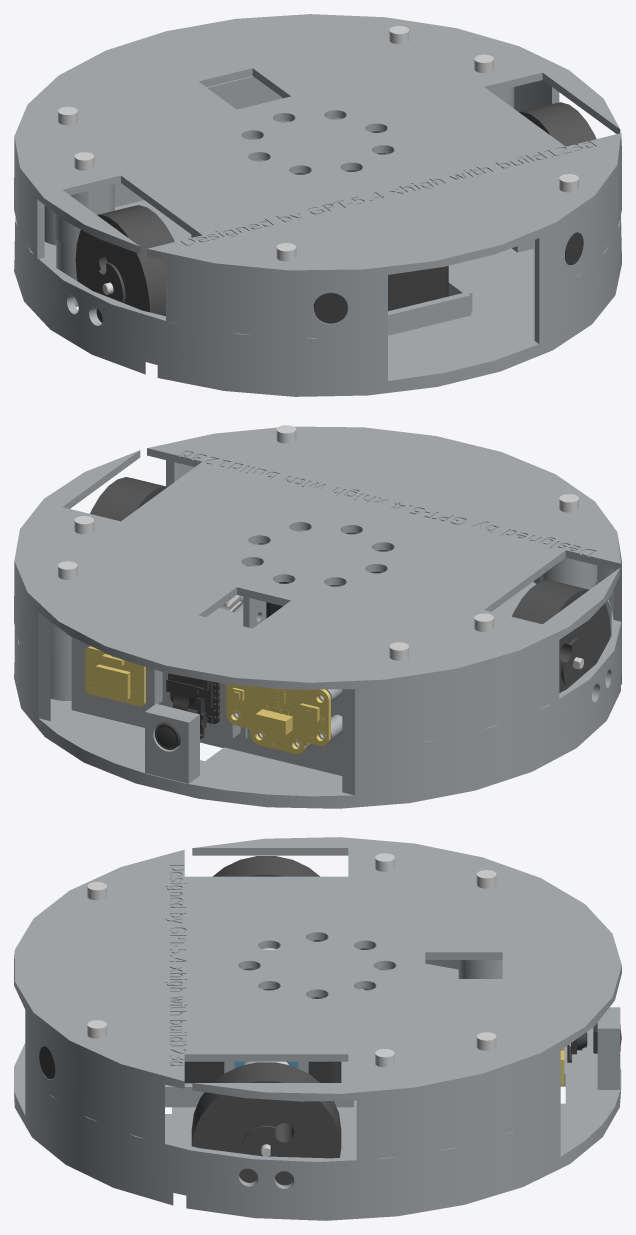
The model's file is flat-disk-robot.glb.
3 views of the same model, one above another, from view 1: azimuth 30°, elevation 25°; view 2: azimuth 150°, elevation 25°; view 3: azimuth 270°, elevation 25° (orthographic).
Parts seen in each view (by area): view 1: =>[0:1:1:6], =>[0:1:1:4], =>[0:1:1:357], =>[0:1:1:9], =>[0:1:1:400], =>[0:1:1:390]; view 2: =>[0:1:1:6], =>[0:1:1:4], =>[0:1:1:357], =>[0:1:1:139], =>[0:1:1:400], =>[0:1:1:328], =>[0:1:1:136], =>[0:1:1:330], =>[0:1:1:225]; view 3: =>[0:1:1:6], =>[0:1:1:4], =>[0:1:1:400], =>[0:1:1:357], =>[0:1:1:9].
Boxes of the visible parts, bbox=[...] form: =>[0:1:1:6]: bbox=[14, 14, 621, 338]; =>[0:1:1:4]: bbox=[14, 76, 621, 396]; =>[0:1:1:357]: bbox=[75, 205, 174, 322]; =>[0:1:1:9]: bbox=[388, 265, 448, 310]; =>[0:1:1:400]: bbox=[519, 102, 596, 146]; =>[0:1:1:390]: bbox=[313, 292, 347, 323]; =>[0:1:1:6]: bbox=[14, 426, 621, 749]; =>[0:1:1:4]: bbox=[14, 529, 621, 808]; =>[0:1:1:357]: bbox=[512, 580, 610, 692]; =>[0:1:1:139]: bbox=[226, 684, 330, 754]; =>[0:1:1:400]: bbox=[90, 477, 167, 521]; =>[0:1:1:328]: bbox=[85, 646, 145, 706]; =>[0:1:1:136]: bbox=[155, 679, 197, 749]; =>[0:1:1:330]: bbox=[96, 664, 130, 699]; =>[0:1:1:225]: bbox=[255, 709, 292, 735]; =>[0:1:1:6]: bbox=[14, 837, 621, 1160]; =>[0:1:1:4]: bbox=[14, 940, 621, 1220]; =>[0:1:1:400]: bbox=[191, 1062, 341, 1185]; =>[0:1:1:357]: bbox=[213, 856, 323, 941]; =>[0:1:1:9]: bbox=[184, 1061, 341, 1083].
Size of the model in its own units: 0.216 by 0.0578 by 0.2155.
